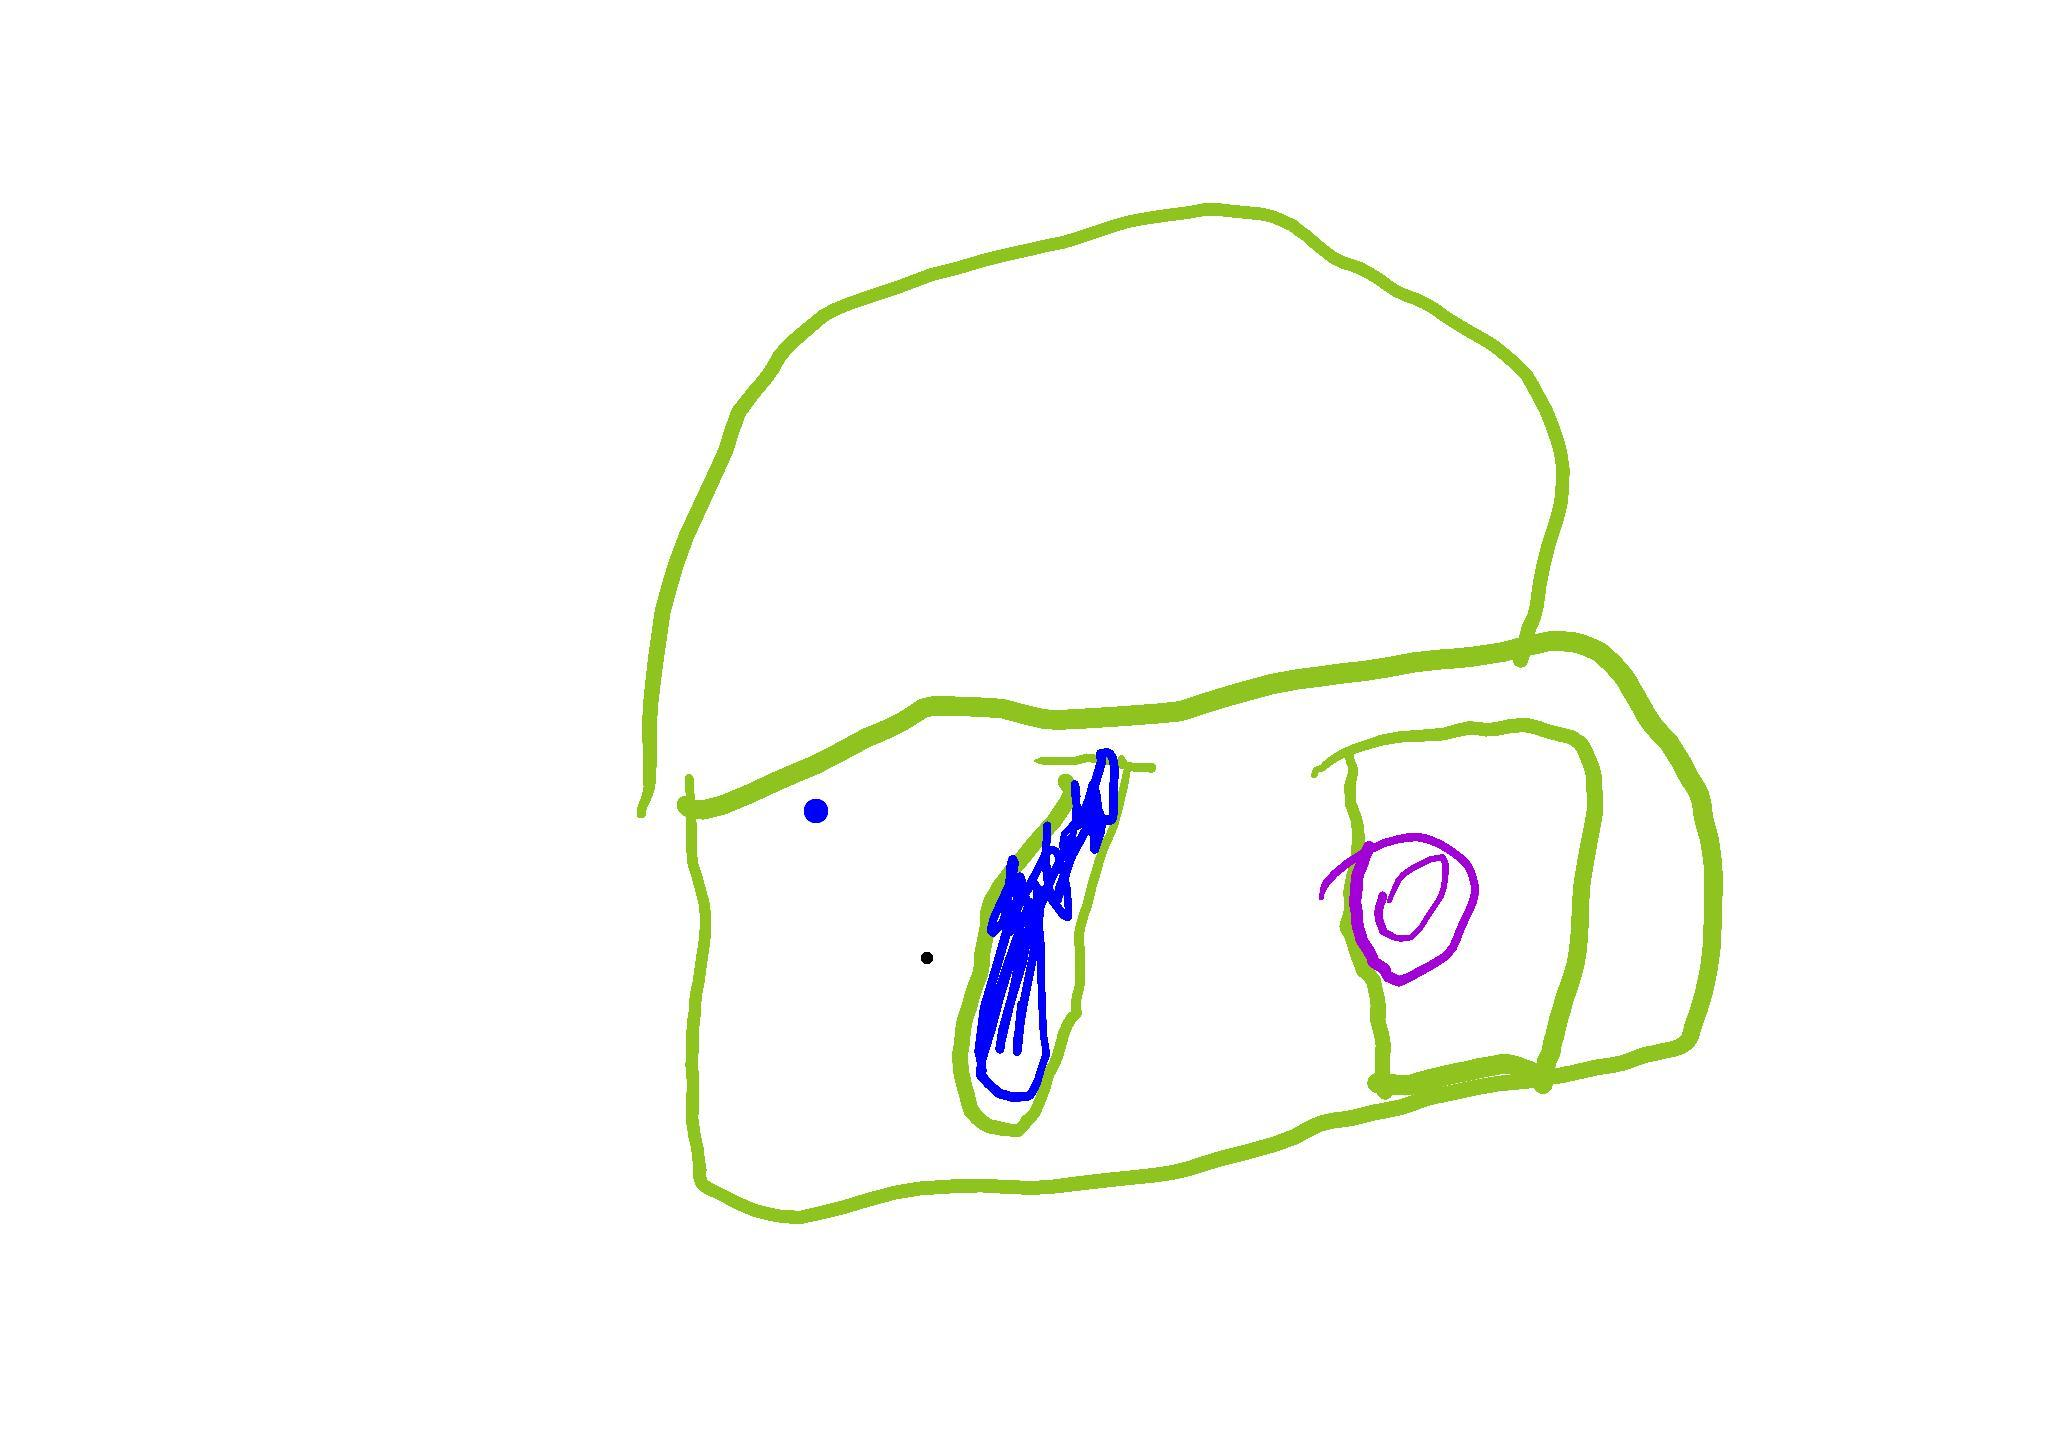door: (1316, 718, 1606, 1098)
house: (640, 202, 1725, 1223)
roof: (659, 213, 1557, 792)
wall: (677, 627, 1722, 1220)
window: (953, 748, 1156, 1138)
